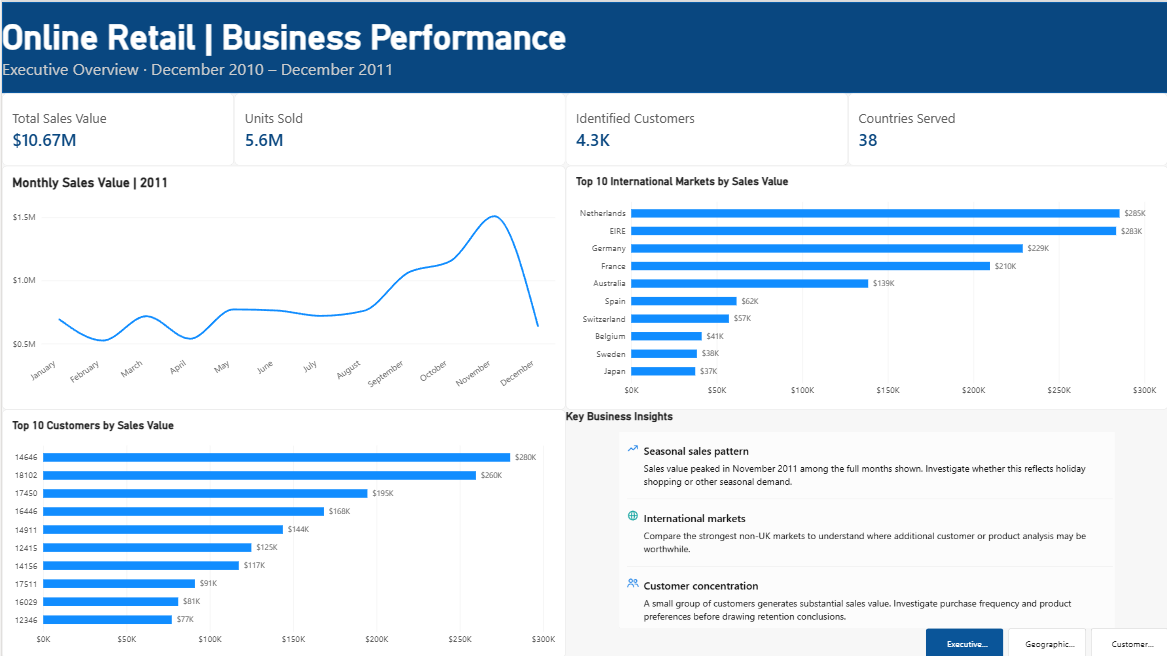

What the dashboard file says about the page in this screenshot:
{"tool":"powerbi","page":{"name":"Executive Overview","canvas":[1920,1080],"ordinal":0},"visuals":[{"type":"shape","box":[0,0,1920,150],"z":0},{"type":"lineChart","title":"Monthly Sales Value | 2011","fields":{"Category":["Online Retail.InvoiceDate.Variation.Date Hierarchy.Month"],"Y":["Online Retail.Total_Revenue"]},"box":[0,269.6,928.3,401.4],"z":1000},{"type":"clusteredBarChart","title":"Top 10 International Markets by Sales Value","fields":{"Category":["Online Retail.Country"],"Y":["Online Retail.Total_Revenue"]},"box":[928.3,269.6,992.1,401.4],"z":2000},{"type":"clusteredBarChart","title":"Top 10 Customers by Sales Value","fields":{"Category":["Online Retail.CustomerID"],"Y":["Online Retail.Total_Revenue"]},"box":[0,671,928.3,409.6],"z":3000},{"type":"textbox","title":"Online Retail | Business Performance","box":[0,24.7,1920.4,98.8],"z":4000},{"type":"cardVisual","fields":{"Data":["Online Retail.Total_Revenue"]},"box":[0,150.3,382.8,119.4],"z":4001},{"type":"cardVisual","fields":{"Data":["Online Retail.Total Units Sold"]},"box":[382.8,150.3,545.5,119.4],"z":4002},{"type":"cardVisual","fields":{"Data":["Online Retail.Identified Customers"]},"box":[928.3,150.3,465.2,119.4],"z":4003},{"type":"cardVisual","fields":{"Data":["Online Retail.Countries Served"]},"box":[1393.5,150.3,526.9,119.4],"z":4004},{"type":"image","title":"Key Business Insights","box":[928.3,671,992.1,360.2],"z":4007},{"type":"pageNavigator","box":[1521.1,1031.2,400,50],"z":4008}]}

Visuals, with their boxes in screenshot pixels (x1, y1, x2, y2), scaled from the page's 1920x1080 canvas onto the 1167x656 screenshot:
shape: box=[0, 0, 1166, 91]
"Monthly Sales Value | 2011" lineChart: box=[0, 164, 564, 408]
"Top 10 International Markets by Sales Value" clusteredBarChart: box=[564, 164, 1166, 408]
"Top 10 Customers by Sales Value" clusteredBarChart: box=[0, 408, 564, 655]
"Online Retail | Business Performance" textbox: box=[0, 15, 1166, 75]
cardVisual - Online Retail.Total_Revenue: box=[0, 91, 233, 164]
cardVisual - Online Retail.Total Units Sold: box=[233, 91, 564, 164]
cardVisual - Online Retail.Identified Customers: box=[564, 91, 847, 164]
cardVisual - Online Retail.Countries Served: box=[847, 91, 1166, 164]
"Key Business Insights" image: box=[564, 408, 1166, 626]
pageNavigator: box=[925, 626, 1166, 655]
